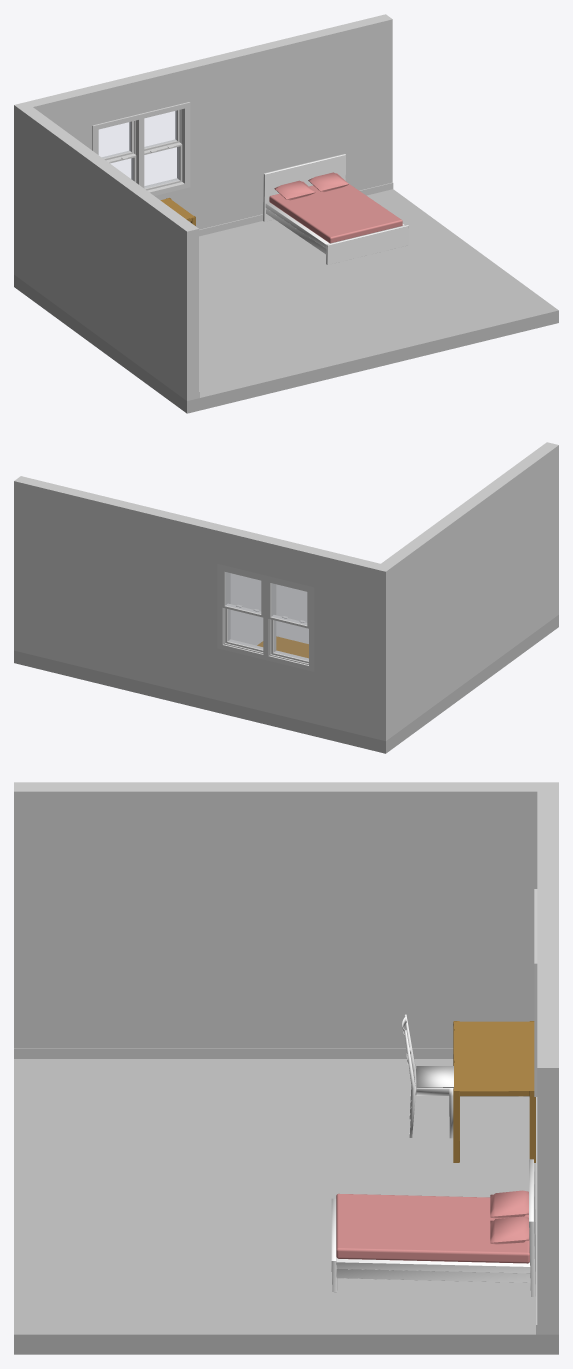
The model's file is L16_W20_furniture2_daylight2.glb.
3 views of the same model, one above another, from view 1: azimuth 30°, elevation 25°; view 2: azimuth 150°, elevation 25°; view 3: azimuth 270°, elevation 25° (orthographic). The views are drawn at different scales.
Size of the model in its own units: 248 by 116 by 200.
